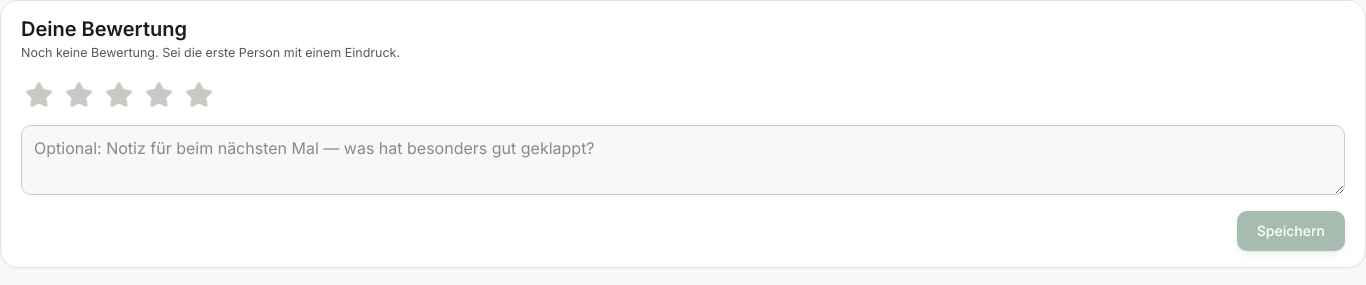
Test: RatingWidget › submits a new rating via POST and refreshes aggregate
Expected: the text "Noch keine Bewertung" is shown, [21,45,400,60]
Click the button named "5 Sterne".
click(199, 95)  # box [181,77,217,113]
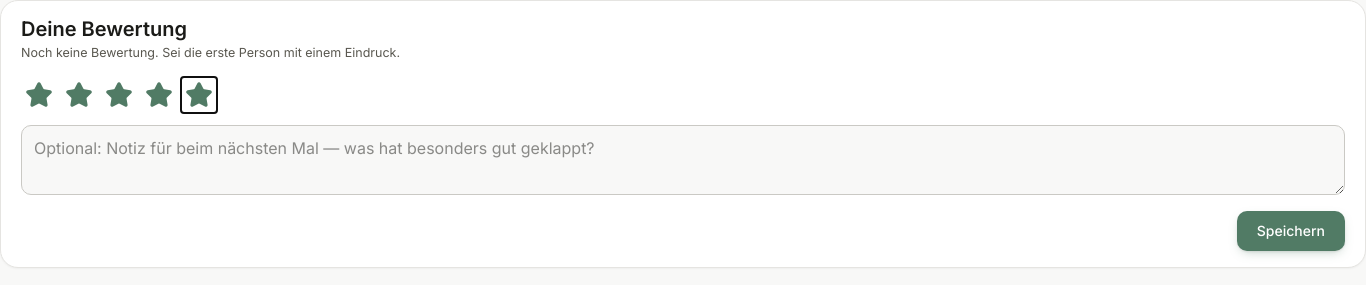
Type "top" into the text box named "Kommentar".
click(683, 160); type("top")  # box [21,125,1345,195]
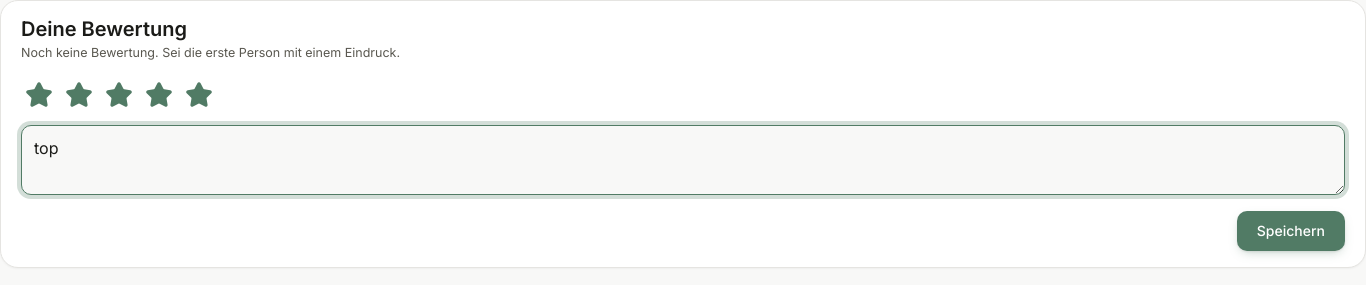
Click the button "Speichern".
click(1291, 231)  # box [1237,211,1345,251]
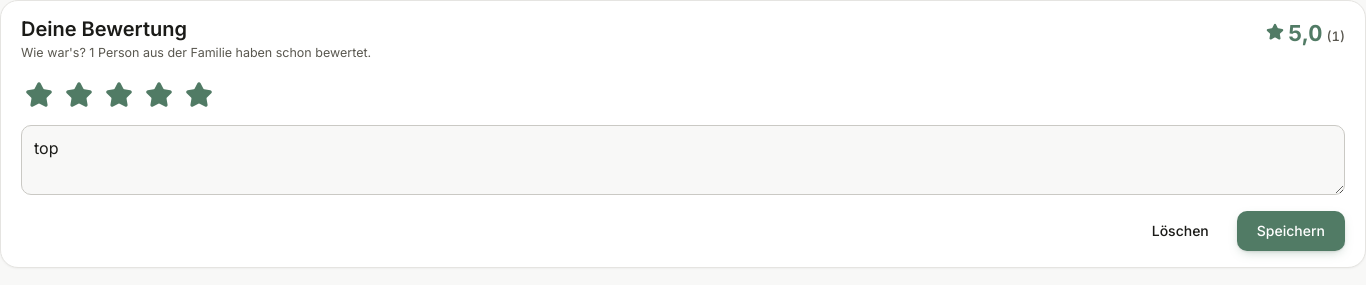
Expected: the text "5,0" is shown, [1288,17,1322,50]
